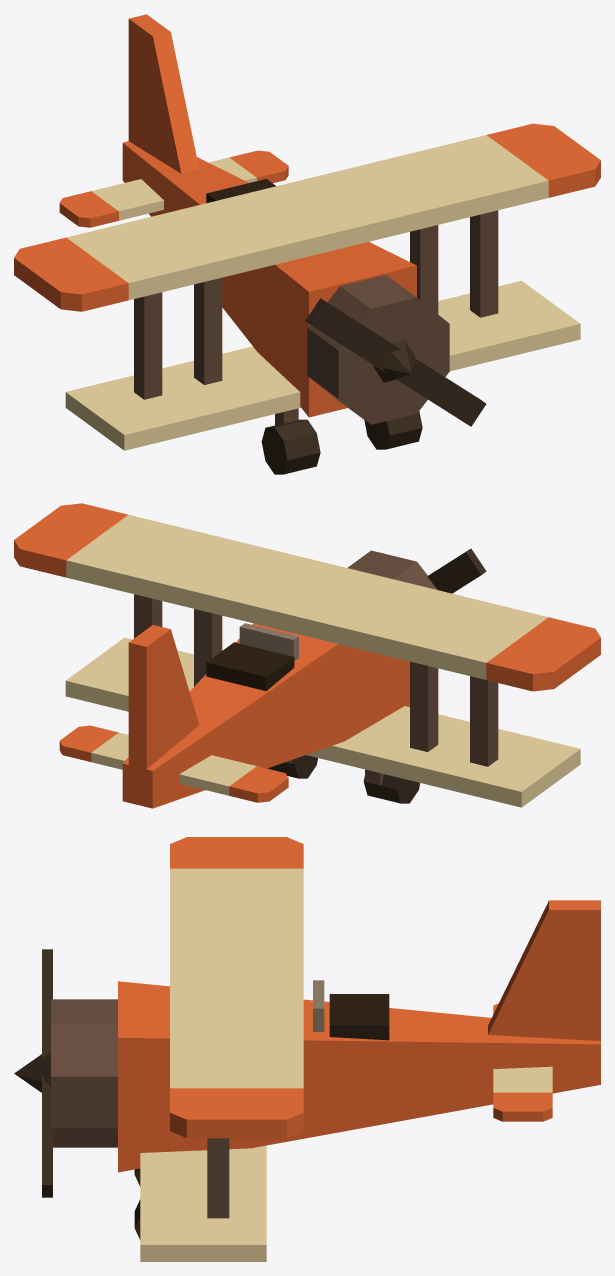
The model's file is plane_fit.glb.
The picture shows the model from 3 angles, top to bottom: view 1: azimuth 30°, elevation 25°; view 2: azimuth 150°, elevation 25°; view 3: azimuth 270°, elevation 25°; orthographic projection. The views are drawn at different scales.
Parts seen in each view (by area): view 1: Plane, Prop; view 2: Plane, Prop; view 3: Plane, Prop.
Boxes of the visible parts, x1=… form: Plane: x1=14, y1=14, x2=600, y2=474; Prop: x1=305, y1=298, x2=486, y2=426; Plane: x1=14, y1=503, x2=600, y2=808; Prop: x1=427, y1=548, x2=486, y2=593; Plane: x1=14, y1=837, x2=600, y2=1261; Prop: x1=42, y1=949, x2=52, y2=1197.
Bounding box in the file's own units: 1.8 × 0.93 × 1.58.
